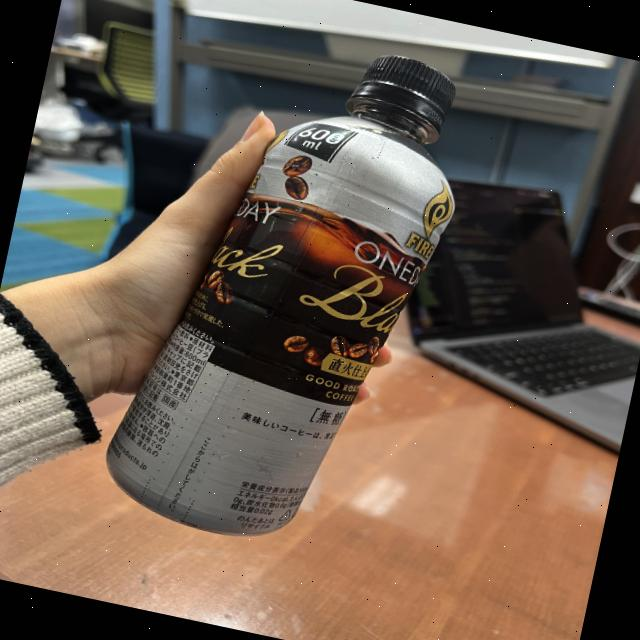coffee-black: (91, 3, 506, 568)
